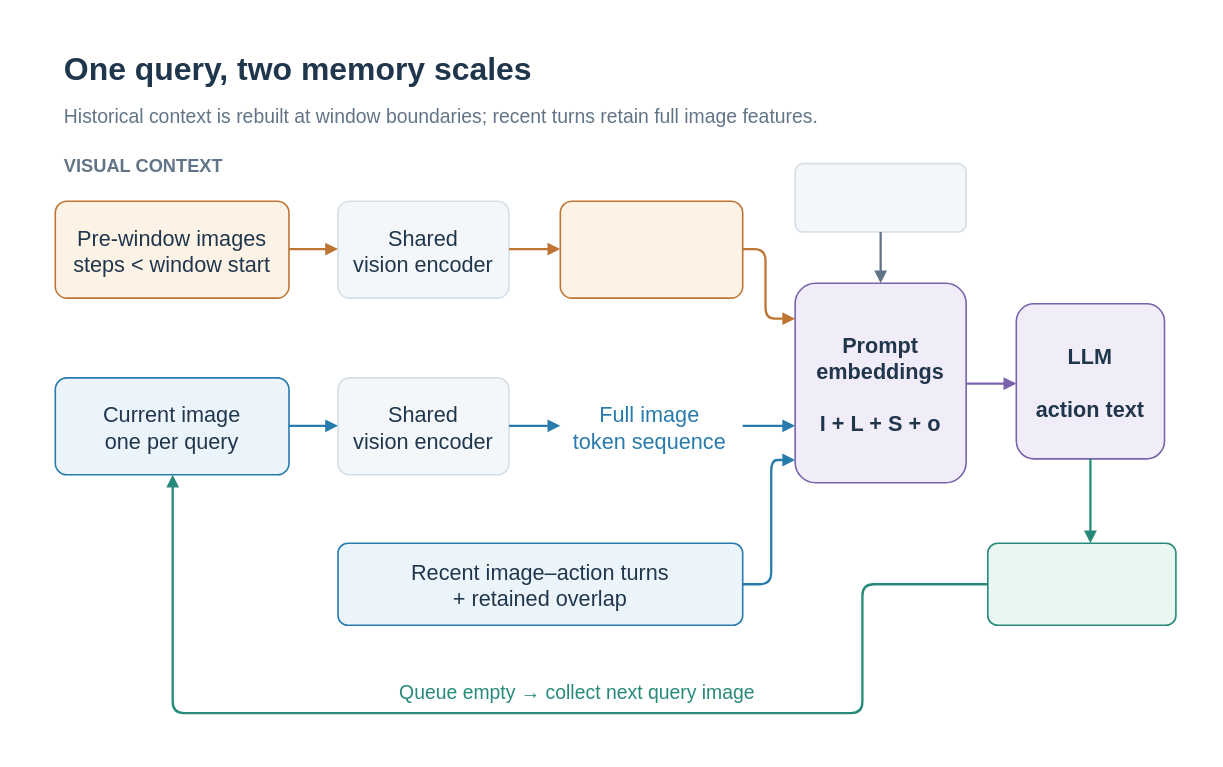
This 1223x767 diagram has some shape labels left out. The shapes that lost their labels are listed below. From the top down, each one's centre as x and y in pixels, then its label:
point 880,197: Instruction + optional initial view
point 651,249: History compression
point 1081,584: Action queue → environment
